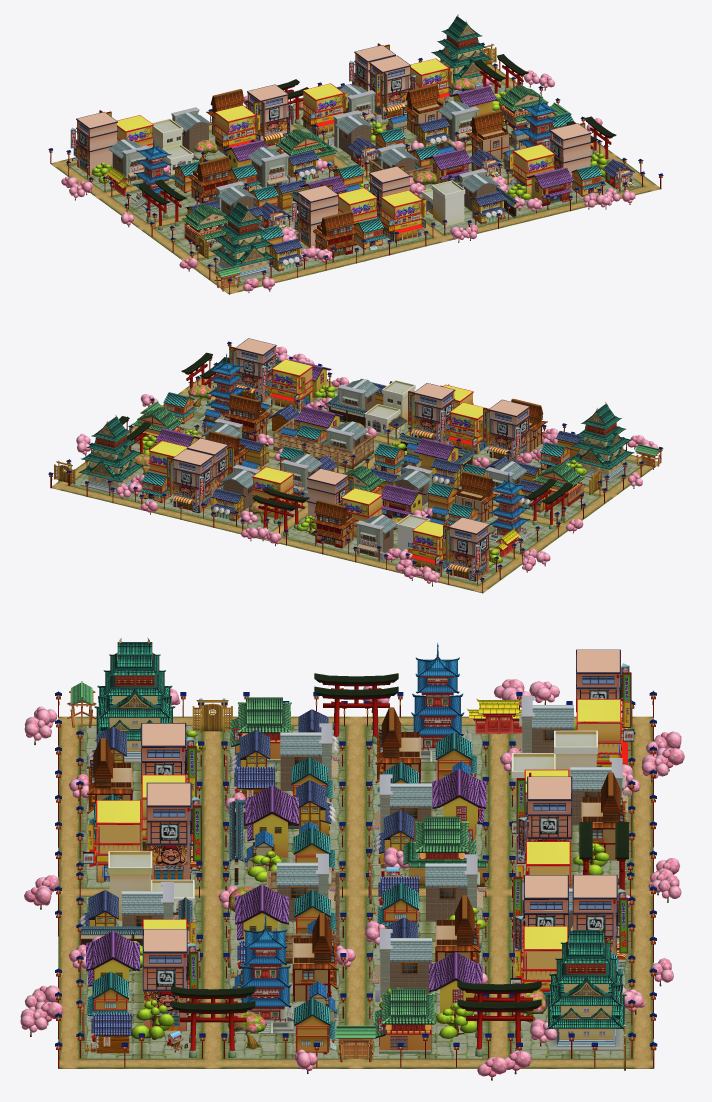
The model's file is KYOTO002.fbx.
3 views of the same model, one above another, from view 1: azimuth 30°, elevation 25°; view 2: azimuth 150°, elevation 25°; view 3: azimuth 270°, elevation 25° (orthographic). The views are drawn at different scales.
Visible parts, largest first — view 1: polySurface6, polySurface10, polySurface2, block street, street, polySurface3, polySurface9, polySurface11, polySurface7, polySurface13, tower002, polySurface4 (+3 smaller); view 2: polySurface10, polySurface6, polySurface2, block street, street, polySurface9, polySurface3, polySurface11, polySurface7, polySurface12, tower002, polySurface4 (+4 smaller); view 3: polySurface6, street, polySurface10, block street, polySurface2, polySurface3, polySurface9, polySurface11, polySurface7, polySurface4, tower, polySurface13 (+4 smaller).
Boxes of the visible parts, x1,y1,x2,y2 form: polySurface6: (171,84,605,271); polySurface10: (70,43,591,248); polySurface2: (109,84,500,226); block street: (69,74,641,286); street: (50,64,659,294); polySurface3: (210,14,492,280); polySurface9: (61,70,635,292); polySurface11: (138,54,616,230); polySurface7: (48,42,663,294); polySurface13: (259,136,634,229); tower002: (127,138,180,212); polySurface4: (105,43,571,291); polySurface10: (148,338,530,581); polySurface6: (132,359,585,548); polySurface2: (201,379,526,560); block street: (70,381,640,584); street: (52,357,661,592); polySurface9: (76,346,658,586); polySurface3: (78,401,634,494); polySurface11: (119,352,573,536); polySurface7: (48,341,663,593); polySurface12: (273,418,475,472); tower002: (488,473,535,547); polySurface4: (54,401,661,557); polySurface6: (78,697,626,1054); street: (58,716,653,1068); polySurface10: (83,649,634,1031); block street: (80,726,631,1058); polySurface2: (108,696,631,1001); polySurface3: (94,637,626,1050); polySurface9: (20,679,684,1080); polySurface11: (171,673,628,1058); polySurface7: (55,690,657,1068); polySurface4: (67,681,626,1070); tower: (234,914,298,1033); polySurface13: (81,754,419,1053).
Size of the model in its own units: 1544208 by 205638 by 1145355.
